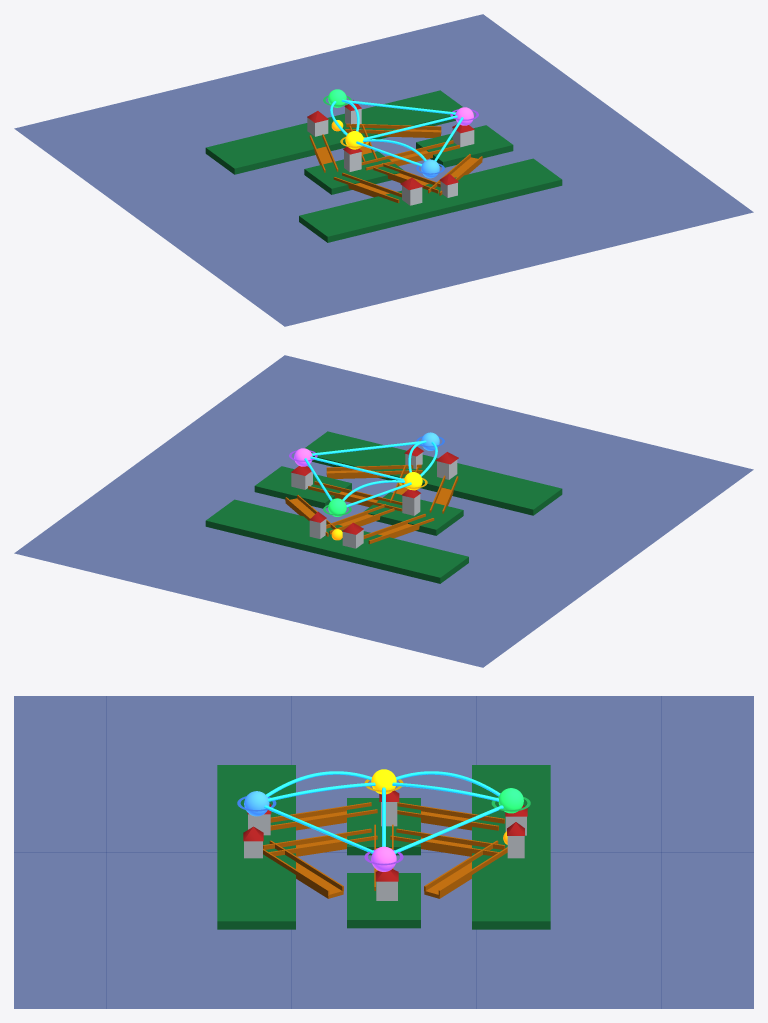
The model's file is asset.glb.
3 renders of one model, top to bottom at view 1: azimuth 30°, elevation 25°; view 2: azimuth 150°, elevation 25°; view 3: azimuth 270°, elevation 25°, orthographic. The views are drawn at different scales.
Visible parts, largest first — view 1: City_3D_Geometry, Graph_Topology_Overlay; view 2: City_3D_Geometry, Graph_Topology_Overlay; view 3: City_3D_Geometry, Graph_Topology_Overlay, bridge_deck_5, bridge_deck_6.
Boxes of the visible parts, x1,y1,x2,y2 form: City_3D_Geometry: [14, 14, 753, 326]; Graph_Topology_Overlay: [323, 89, 478, 178]; City_3D_Geometry: [14, 355, 753, 667]; Graph_Topology_Overlay: [289, 432, 444, 516]; City_3D_Geometry: [14, 696, 753, 1008]; Graph_Topology_Overlay: [237, 769, 530, 871]; bridge_deck_5: [424, 862, 471, 898]; bridge_deck_6: [296, 862, 343, 898].
Bounding box in the file's own units: 32 × 3.02 × 32.
